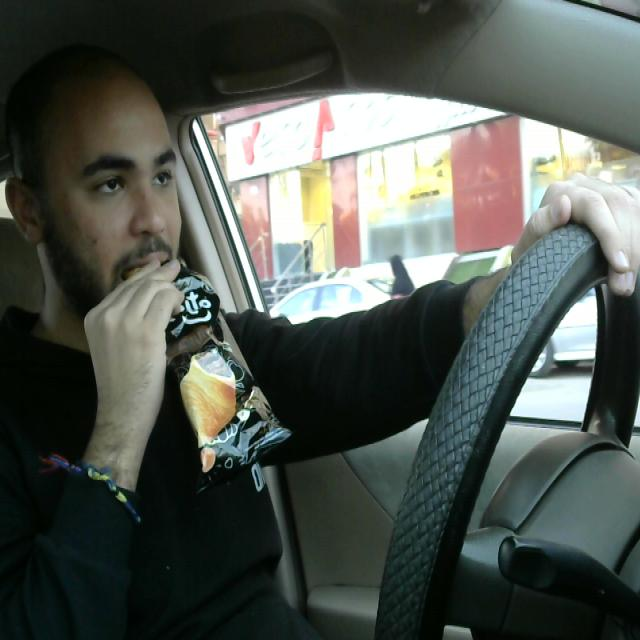eating: (136, 252, 298, 498)
